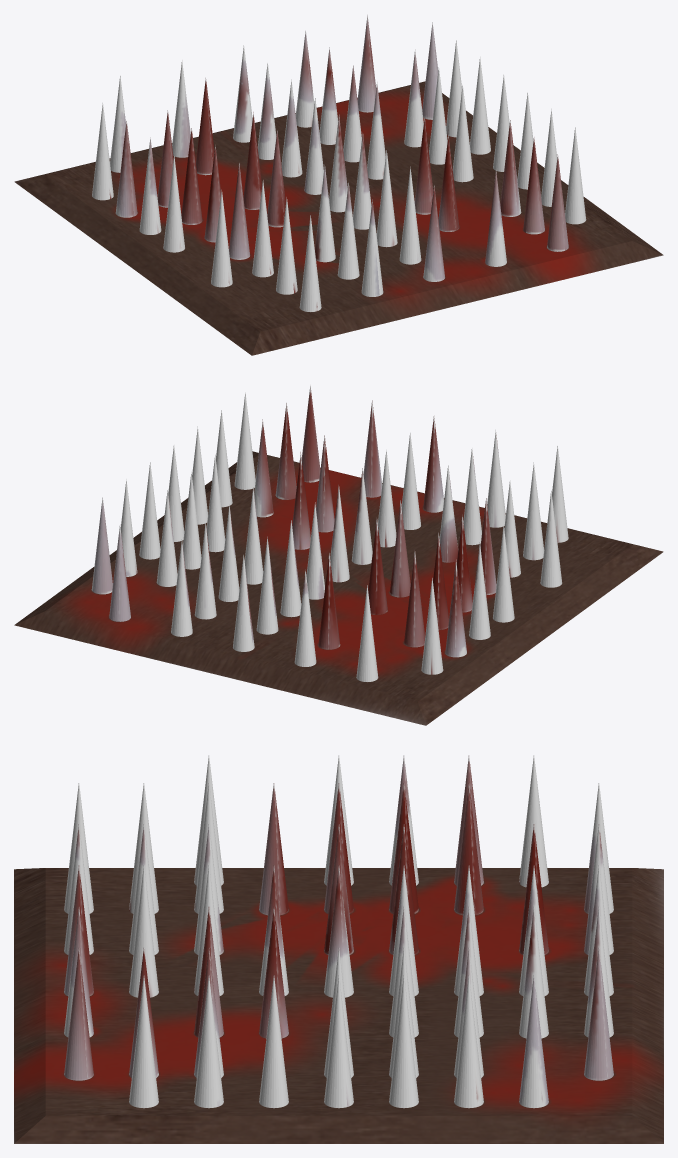
The model's file is spike.dae.
3 renders of one model, top to bottom at view 1: azimuth 30°, elevation 25°; view 2: azimuth 150°, elevation 25°; view 3: azimuth 270°, elevation 25°, orthographic. The views are drawn at different scales.
Parts seen in each view (by area): view 1: Cube.001; view 2: Cube.001; view 3: Cube.001.
Part boxes in pixels (x1=…): Cube.001: x1=14, y1=15, x2=663, y2=355; Cube.001: x1=14, y1=385, x2=663, y2=725; Cube.001: x1=14, y1=755, x2=663, y2=1143.
Bounding box in the file's own units: 2 × 2 × 0.4847.
Materials: 1 (1 with a texture image).
